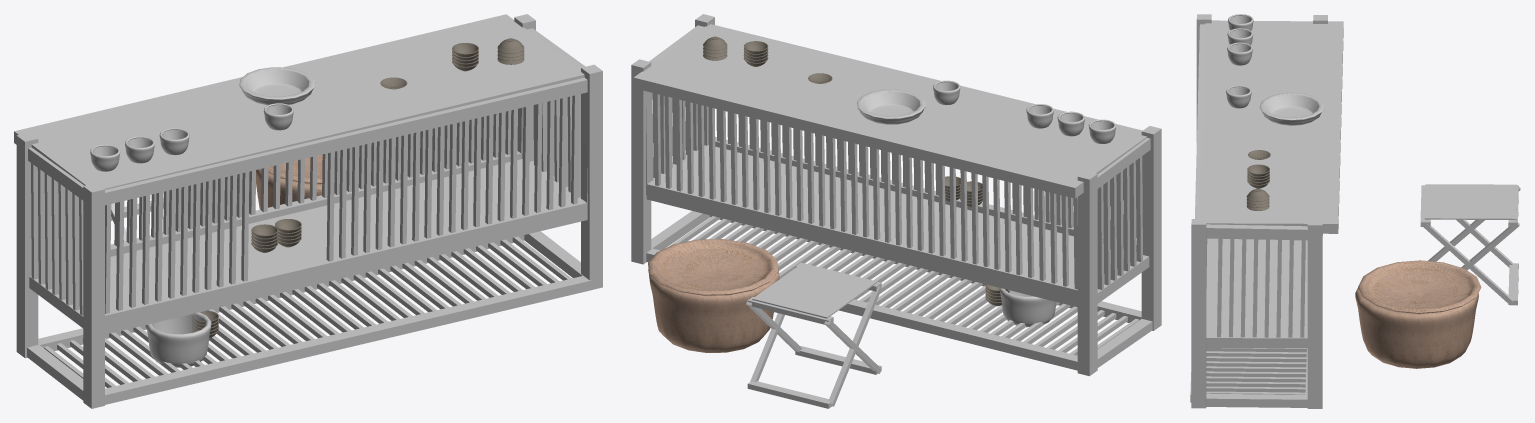
File: tan17.fbx
The picture shows the model from 3 angles, left to right: view 1: azimuth 30°, elevation 25°; view 2: azimuth 150°, elevation 25°; view 3: azimuth 270°, elevation 25°; orthographic projection. The views are drawn at different scales.
Parts seen in each view (by area): view 1: yanglintaobao888_110, yanglintaobao888_111, yanglintaobao888_106, yanglintaobao888_109; view 2: yanglintaobao888_110, yanglintaobao888_109, yanglintaobao888_111, yanglintaobao888_107, yanglintaobao888_106; view 3: yanglintaobao888_110, yanglintaobao888_109, yanglintaobao888_111, yanglintaobao888_107, yanglintaobao888_106.
Boxes of the visible parts, <box> form: yanglintaobao888_110: <box>14,14,602,408</box>; yanglintaobao888_111: <box>90,67,315,367</box>; yanglintaobao888_106: <box>192,38,524,337</box>; yanglintaobao888_109: <box>256,154,322,209</box>; yanglintaobao888_110: <box>631,14,1161,376</box>; yanglintaobao888_109: <box>648,239,779,352</box>; yanglintaobao888_111: <box>752,80,1115,327</box>; yanglintaobao888_107: <box>746,262,881,408</box>; yanglintaobao888_106: <box>703,36,1009,306</box>; yanglintaobao888_110: <box>1190,14,1343,408</box>; yanglintaobao888_109: <box>1355,260,1481,368</box>; yanglintaobao888_111: <box>1226,14,1517,219</box>; yanglintaobao888_107: <box>1420,185,1520,305</box>; yanglintaobao888_106: <box>1246,150,1270,210</box>.
Bounding box in the file's own units: 40.37 × 17.97 × 26.69.
